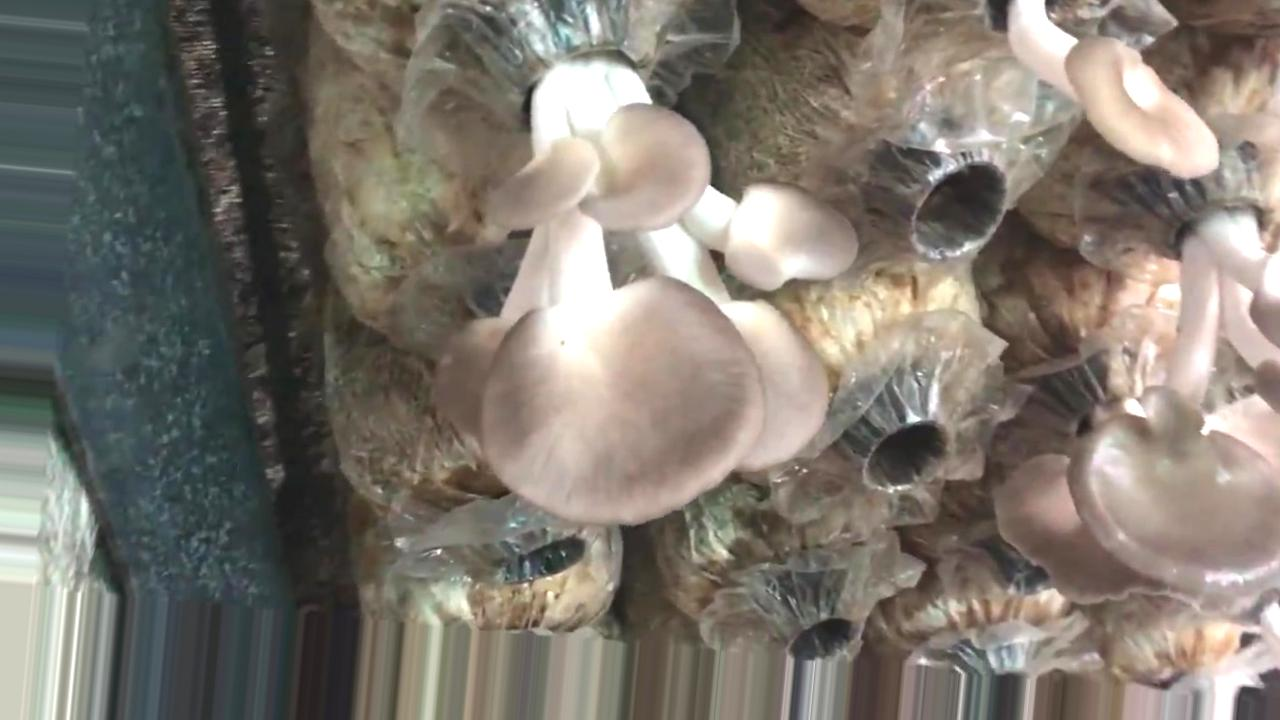nam: (428, 12, 860, 528), (995, 167, 1280, 603), (961, 1, 1217, 180)
